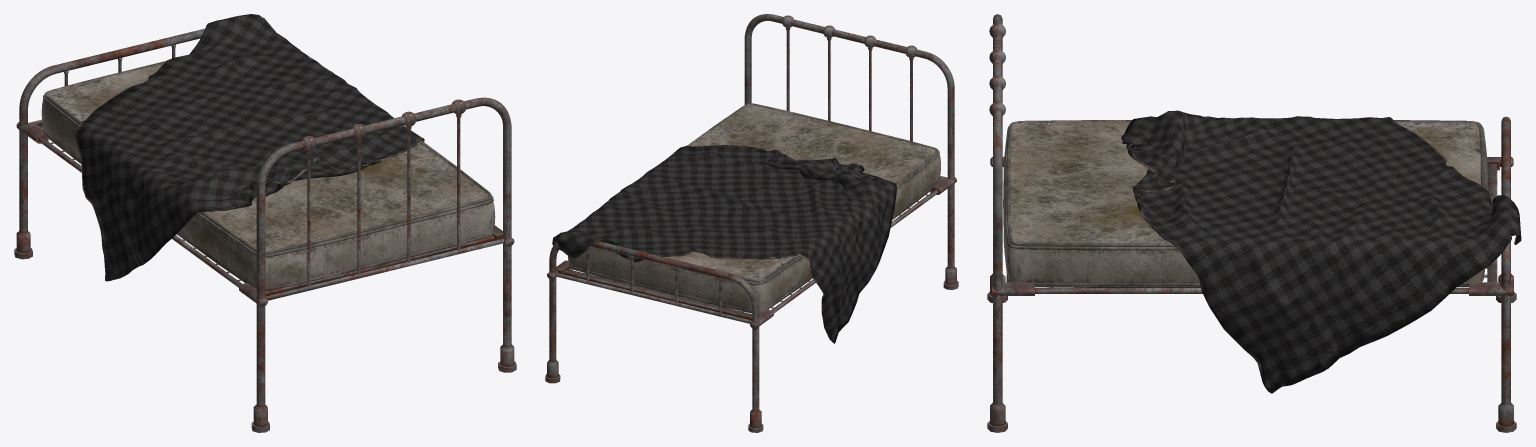
The model's file is prop_old_hospital_bed.glb.
3 views of the same model, side by side, from view 1: azimuth 30°, elevation 25°; view 2: azimuth 150°, elevation 25°; view 3: azimuth 270°, elevation 25° (orthographic). The views are drawn at different scales.
Visible parts, largest first — view 1: blanket, mattress, bed; view 2: blanket, mattress, bed; view 3: blanket, mattress, bed.
Part boxes in pixels (<box>): blanket: <box>75,14,424,281</box>; mattress: <box>41,61,495,291</box>; bed: <box>14,28,516,432</box>; blanket: <box>552,145,897,343</box>; mattress: <box>568,103,940,313</box>; bed: <box>545,14,958,432</box>; blanket: <box>1121,110,1521,393</box>; mattress: <box>1003,120,1487,287</box>; bed: <box>987,14,1516,432</box>.
Size of the model in its own units: 133 by 130 by 210.
3 materials, 3 textured.
